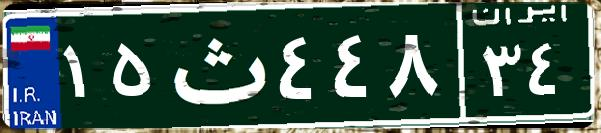1: (57, 26, 110, 107)
3: (475, 38, 525, 113)
4: (273, 28, 330, 110), (330, 28, 385, 110), (525, 38, 570, 115)
5: (110, 28, 158, 105)
8: (385, 28, 445, 110)
ث: (158, 15, 273, 115)
